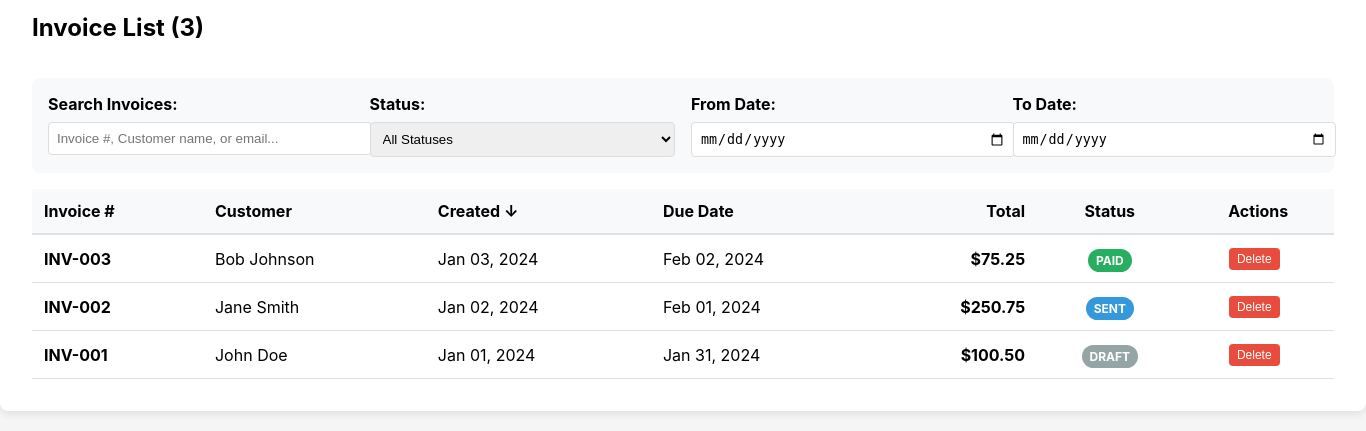
InvoiceList Component › sorts by total amount correctly
Click on Total column to sort
Click the column heading "Total" at point(957, 212), box x1=877 y1=189 x2=1037 y2=234
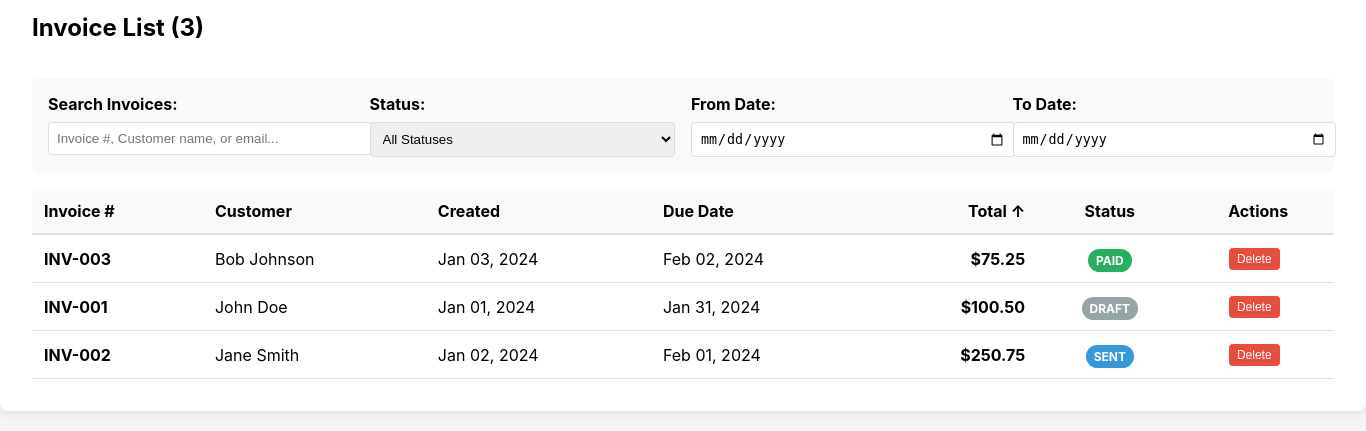
Now the column heading "Total ↑" is shown, box x1=877 y1=189 x2=1037 y2=234
